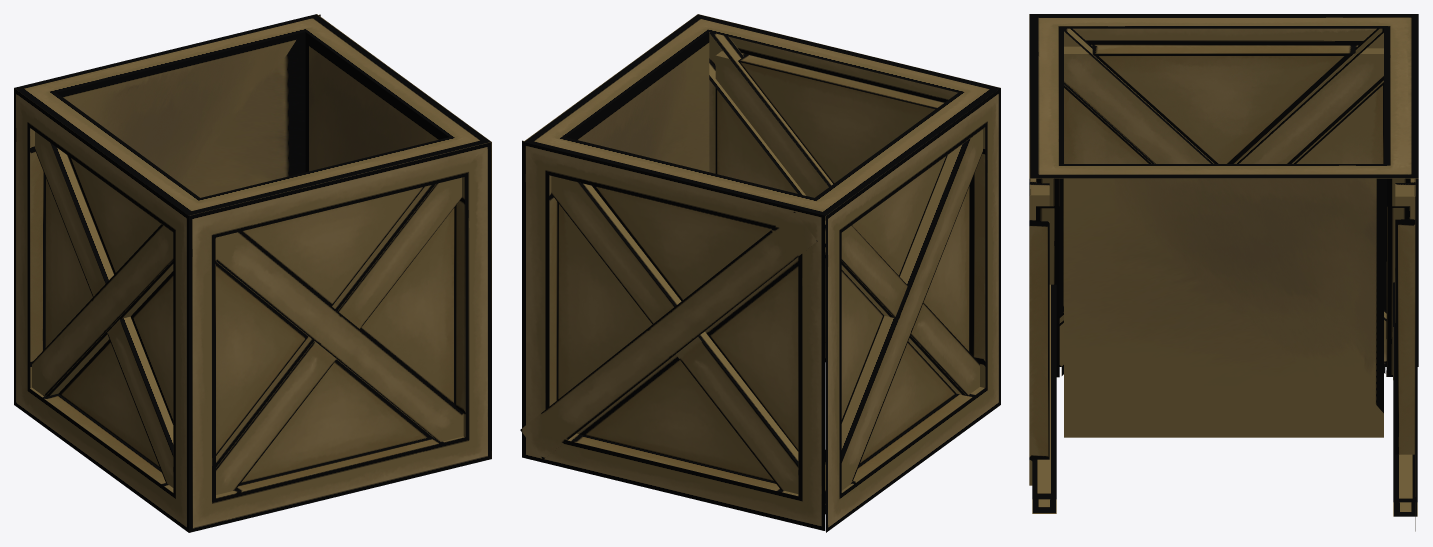
Rendered from crate for wool.fbx.
The picture shows the model from 3 angles, left to right: view 1: azimuth 30°, elevation 25°; view 2: azimuth 150°, elevation 25°; view 3: azimuth 270°, elevation 25°; orthographic projection. The views are drawn at different scales.
Parts seen in each view (by area): view 1: polySurface3 (×3), polySurface1 (×2), polySurface2 (×2); view 2: polySurface3 (×3), polySurface4, polySurface5, polySurface6, polySurface2, polySurface1 (×2); view 3: polySurface3 (×3), polySurface4, polySurface2 (×2), polySurface1 (×2), polySurface5, polySurface6.
Boxes of the visible parts, x1,y1,x2,y2 form: polySurface3 (×3): (14,14,491,532); polySurface1 (×2): (35,132,461,494); polySurface2 (×2): (32,224,463,441); polySurface3 (×3): (523,14,1000,532); polySurface4: (522,140,825,530); polySurface5: (520,212,817,459); polySurface6: (551,176,825,504); polySurface2: (825,129,982,514); polySurface1 (×2): (709,32,979,395); polySurface3 (×3): (1029,14,1418,485); polySurface4: (1395,178,1415,531); polySurface2 (×2): (1032,28,1386,513); polySurface1 (×2): (1036,28,1383,377); polySurface5: (1393,178,1417,516); polySurface6: (1386,178,1410,376).
Bounding box in the file's own units: 1.48 × 1.47 × 1.47.
Materials: 4 (4 with a texture image).
